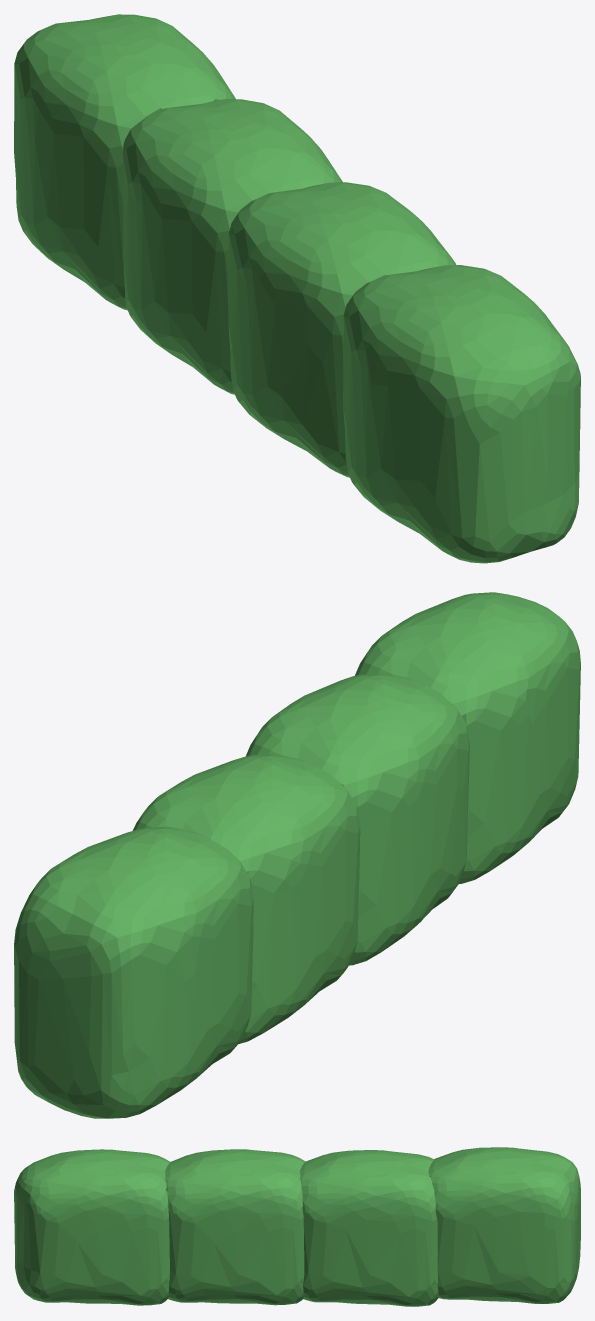
The model's file is arbusto4LargosAltos.glb.
The picture shows the model from 3 angles, top to bottom: view 1: azimuth 30°, elevation 25°; view 2: azimuth 150°, elevation 25°; view 3: azimuth 270°, elevation 25°; orthographic projection. The views are drawn at different scales.
Parts seen in each view (by area): view 1: Icosphere; view 2: Icosphere; view 3: Icosphere.
Part boxes in pixels (x1,y1,x2,y2): Icosphere: [14, 14, 580, 563]; Icosphere: [14, 592, 580, 1118]; Icosphere: [14, 1147, 580, 1306].
Size of the model in its own units: 0.2017 by 0.2829 by 1.03.
